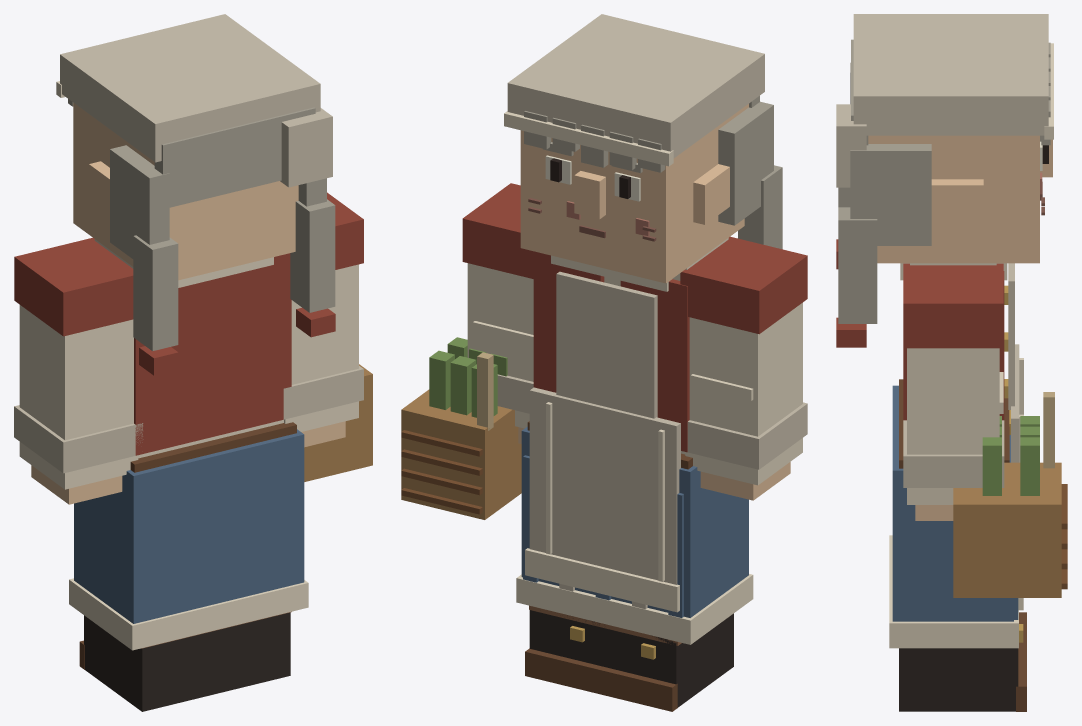
The model's file is grandmother.obj.
3 views of the same model, side by side, from view 1: azimuth 30°, elevation 25°; view 2: azimuth 150°, elevation 25°; view 3: azimuth 270°, elevation 25° (orthographic). The views are drawn at different scales.
Visible parts, largest first — view 1: head, body, right_arm, left_arm, right_leg, left_leg, equipment_left; view 2: body, head, right_arm, equipment_left, left_arm, right_leg, left_leg; view 3: head, left_arm, body, equipment_left, left_leg.
Part boxes in pixels (x1,y1,x2,y2): head: (56, 14, 335, 375); body: (69, 239, 308, 650); right_arm: (14, 237, 143, 504); left_arm: (283, 192, 363, 447); right_leg: (79, 615, 219, 711); left_leg: (214, 611, 291, 692); equipment_left: (304, 364, 372, 481); body: (516, 238, 753, 644); head: (504, 14, 782, 283); right_arm: (680, 236, 807, 500); equipment_left: (401, 337, 521, 519); left_arm: (462, 183, 533, 443); right_leg: (596, 613, 733, 711); left_leg: (525, 605, 606, 693); head: (836, 14, 1053, 347); left_arm: (903, 263, 1004, 520); body: (889, 263, 1023, 648); equipment_left: (953, 392, 1067, 597); left_leg: (899, 624, 1026, 711).
Bounding box in the file's own units: 1.14 × 1.97 × 0.6675.
